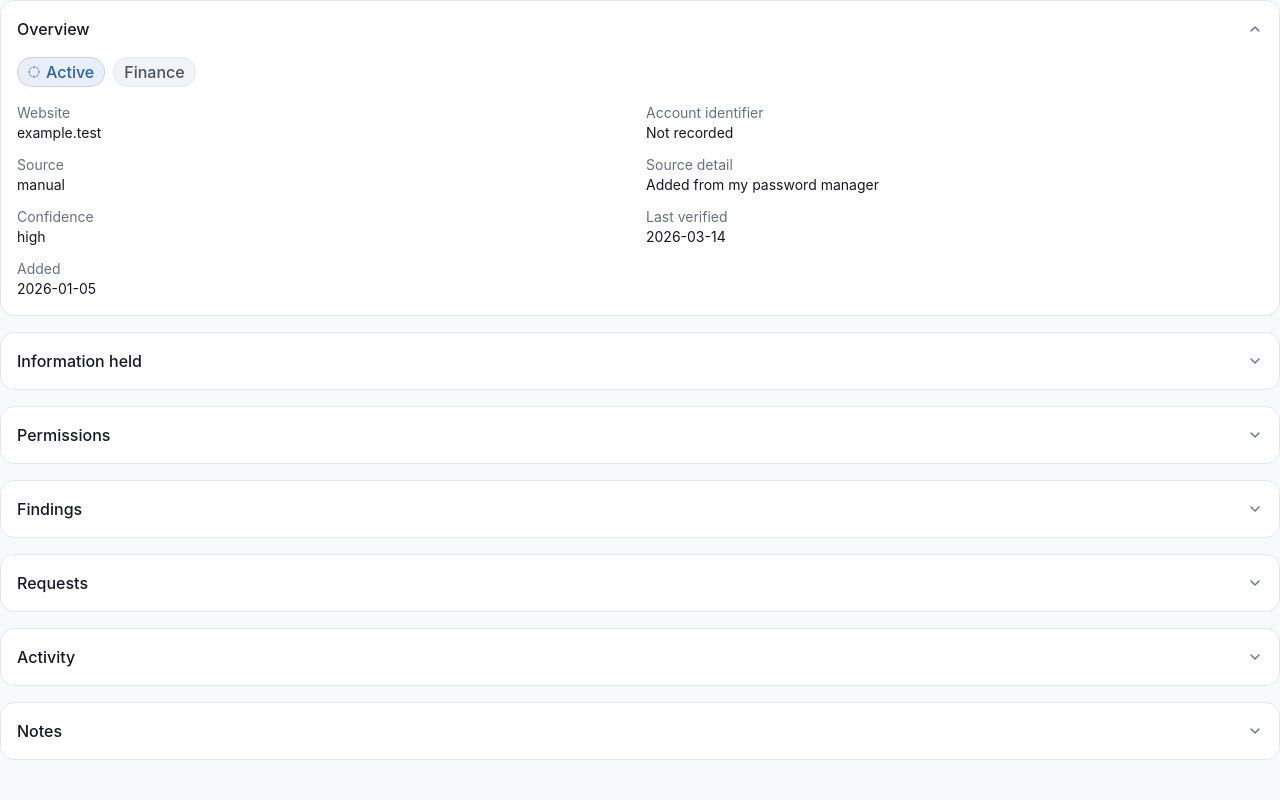
Test: the requests section › says none has been prepared, and claims nothing more
Click the heading "Requests" at (52, 583), box [17,573,1263,593]
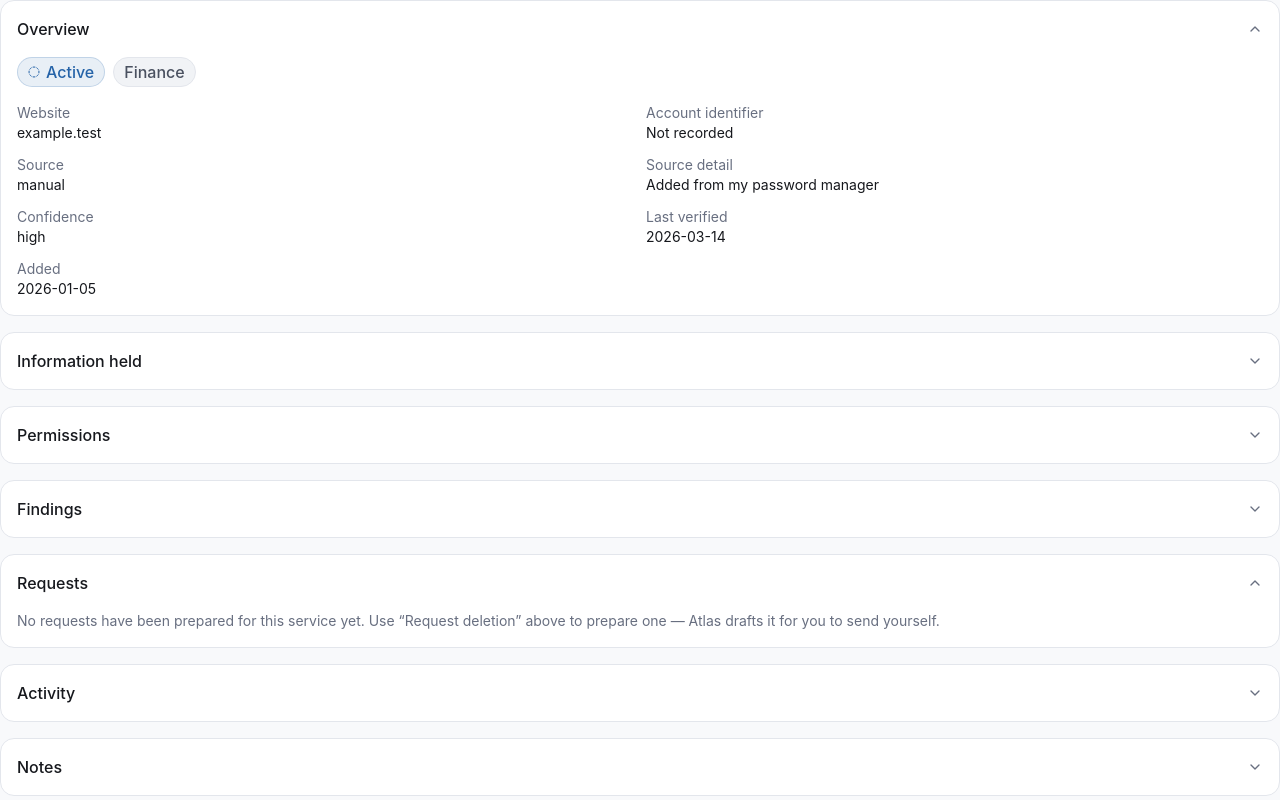
Now the text "No requests have been prepared" is shown, box [17,612,940,629]
